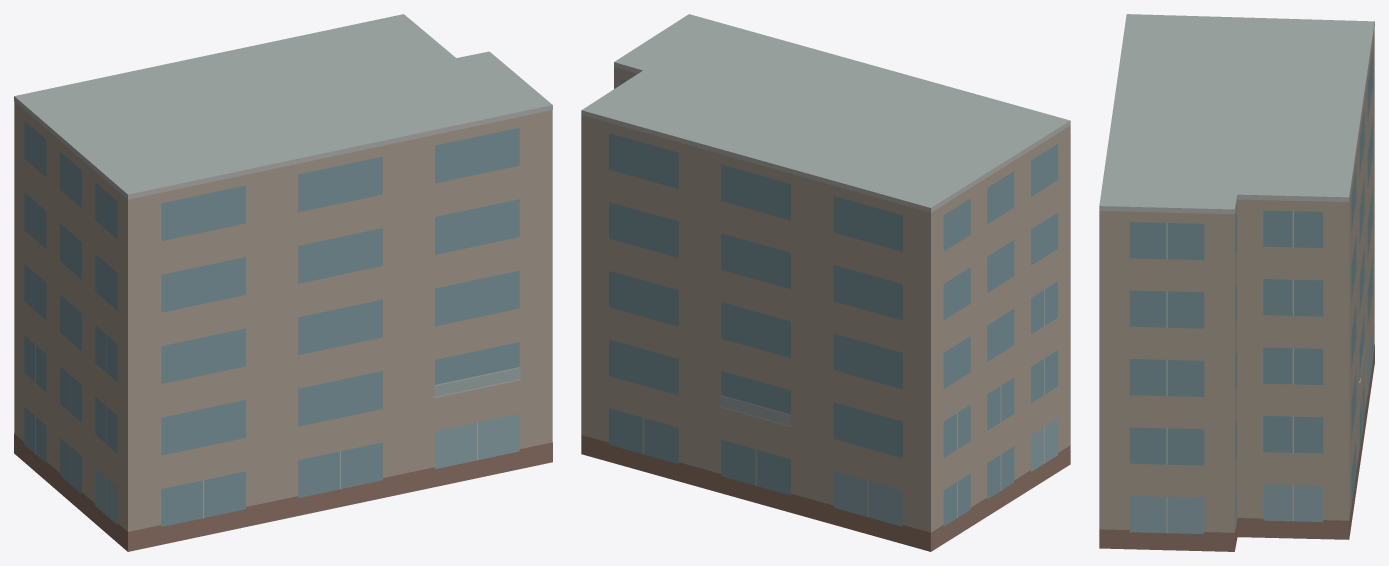
File: survey-upis-32755387.glb
3 renders of one model, left to right at view 1: azimuth 30°, elevation 25°; view 2: azimuth 150°, elevation 25°; view 3: azimuth 270°, elevation 25°, orthographic. The views are drawn at different scales.
Visible parts, largest first — view 1: survey-upis-32755387.tmp; view 2: survey-upis-32755387.tmp; view 3: survey-upis-32755387.tmp.
Part boxes in pixels (x1,y1,x2,y2): survey-upis-32755387.tmp: (14,14,552,551); survey-upis-32755387.tmp: (581,14,1070,551); survey-upis-32755387.tmp: (1099,14,1374,551).
Size of the model in its own units: 21.19 by 17.3 by 12.62.
